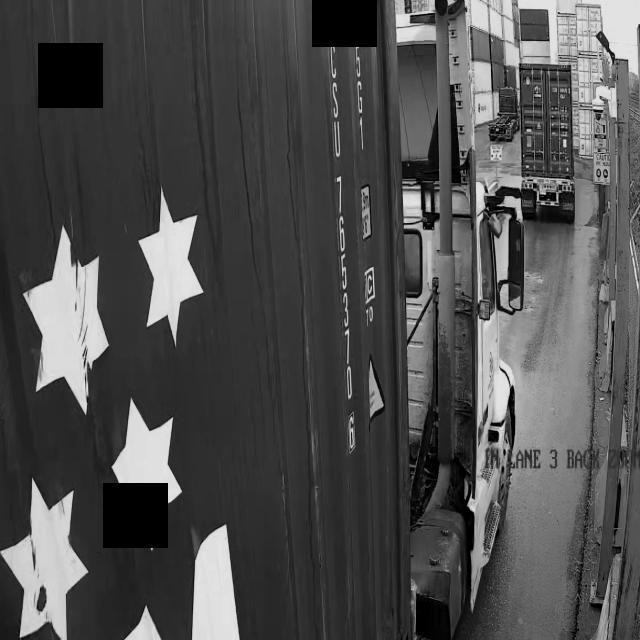container_side_no: (322, 0, 361, 461)
truck_with_container: (0, 0, 524, 640)
